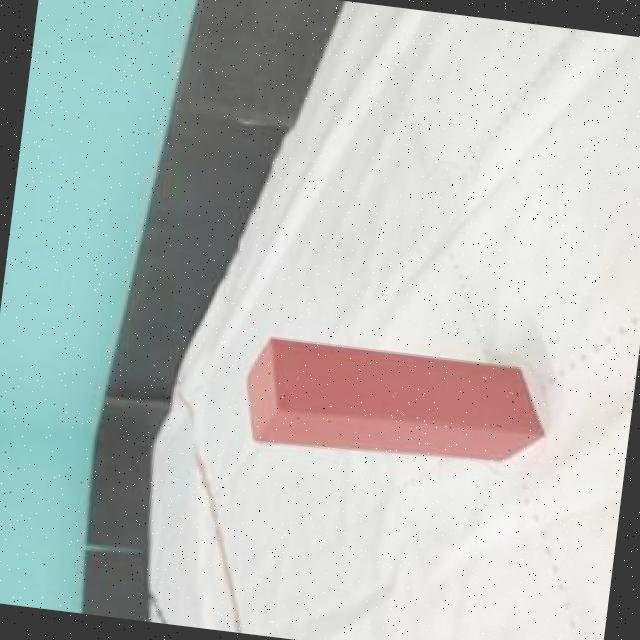redbox: (236, 330, 554, 477)
